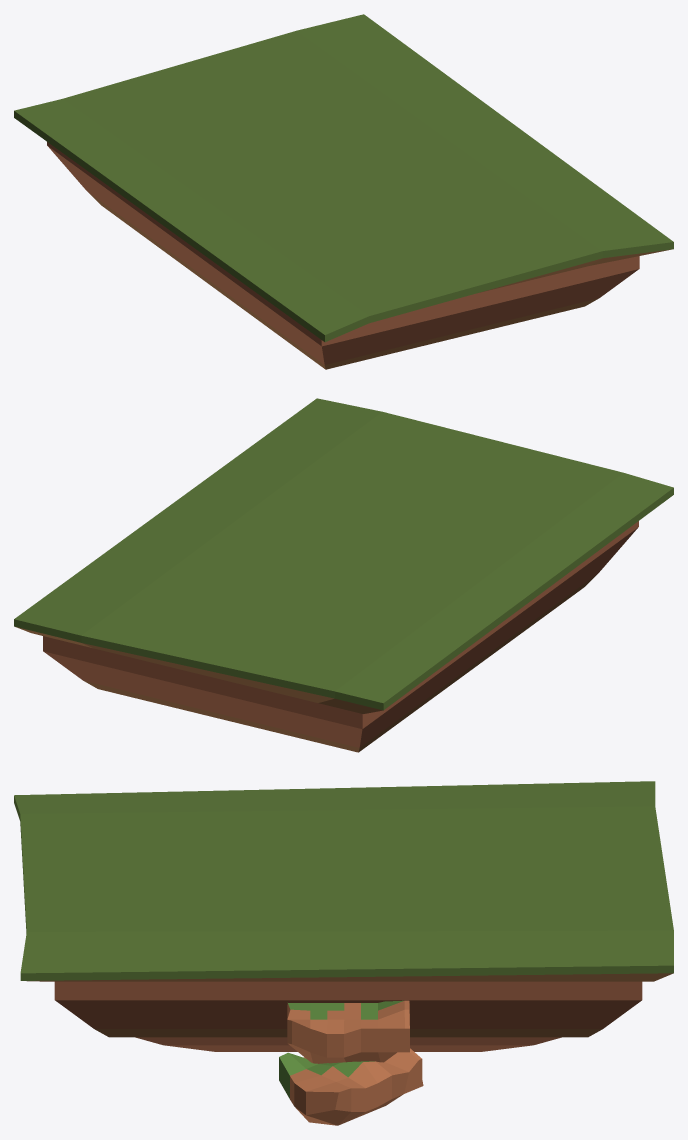
File: CHAOMILHARAL.fbx
The picture shows the model from 3 angles, top to bottom: view 1: azimuth 30°, elevation 25°; view 2: azimuth 150°, elevation 25°; view 3: azimuth 270°, elevation 25°; orthographic projection. The views are drawn at different scales.
Parts seen in each view (by area): view 1: Cube.002; view 2: Cube.002; view 3: Cube.002.
Boxes of the visible parts, x1,y1,x2,y2 form: Cube.002: [14, 14, 673, 369]; Cube.002: [14, 398, 673, 752]; Cube.002: [14, 781, 673, 1125].
Size of the model in its own units: 866 by 268 by 1076.
